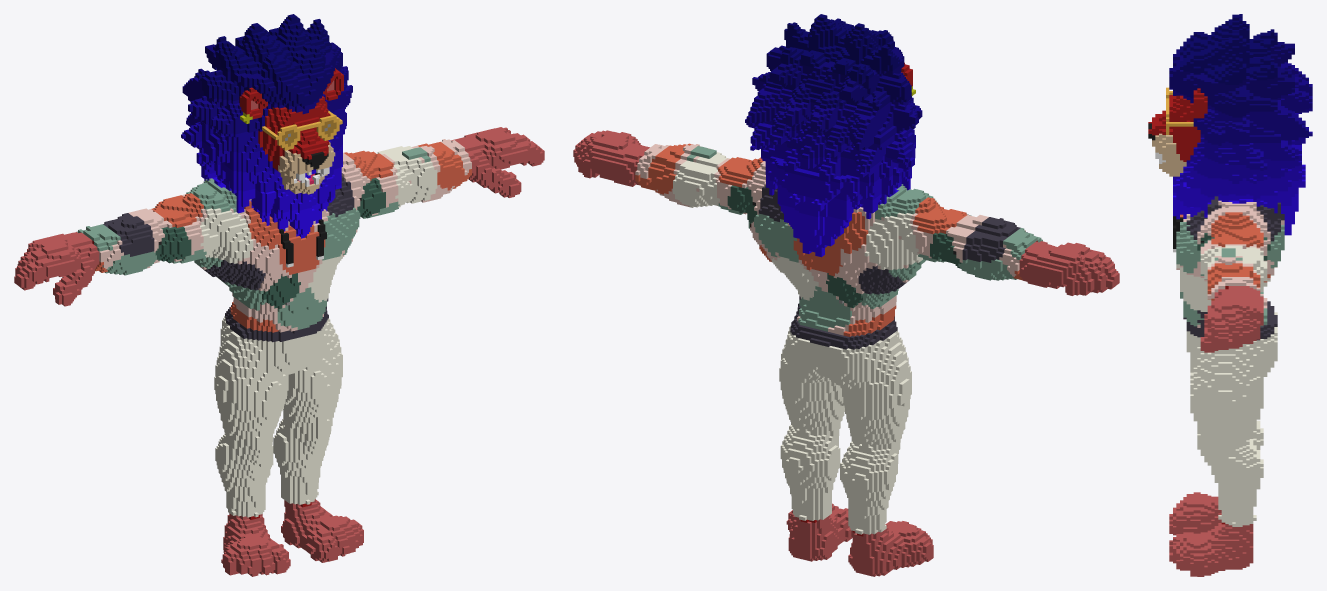
Rendered from 328-BtjbS912.fbx.
3 renders of one model, left to right at view 1: azimuth 30°, elevation 25°; view 2: azimuth 150°, elevation 25°; view 3: azimuth 270°, elevation 25°, orthographic. The views are drawn at different scales.
Parts seen in each view (by area): view 1: open; view 2: open; view 3: open.
Part boxes in pixels (x1=…): open: x1=14, y1=14, x2=544, y2=576; open: x1=573, y1=14, x2=1119, y2=576; open: x1=1148, y1=14, x2=1312, y2=576.
Size of the model in its own units: 17.2 by 16.5 by 4.7.
6 materials, 6 textured.
